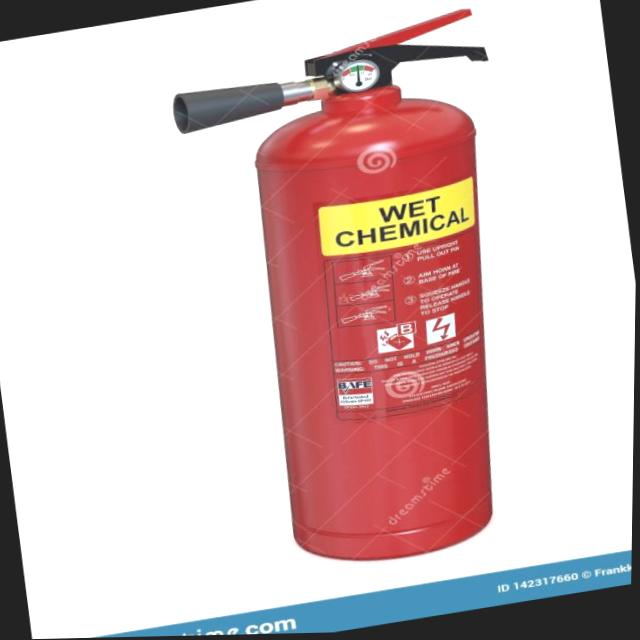FireExtinguisher: (151, 3, 561, 591)
